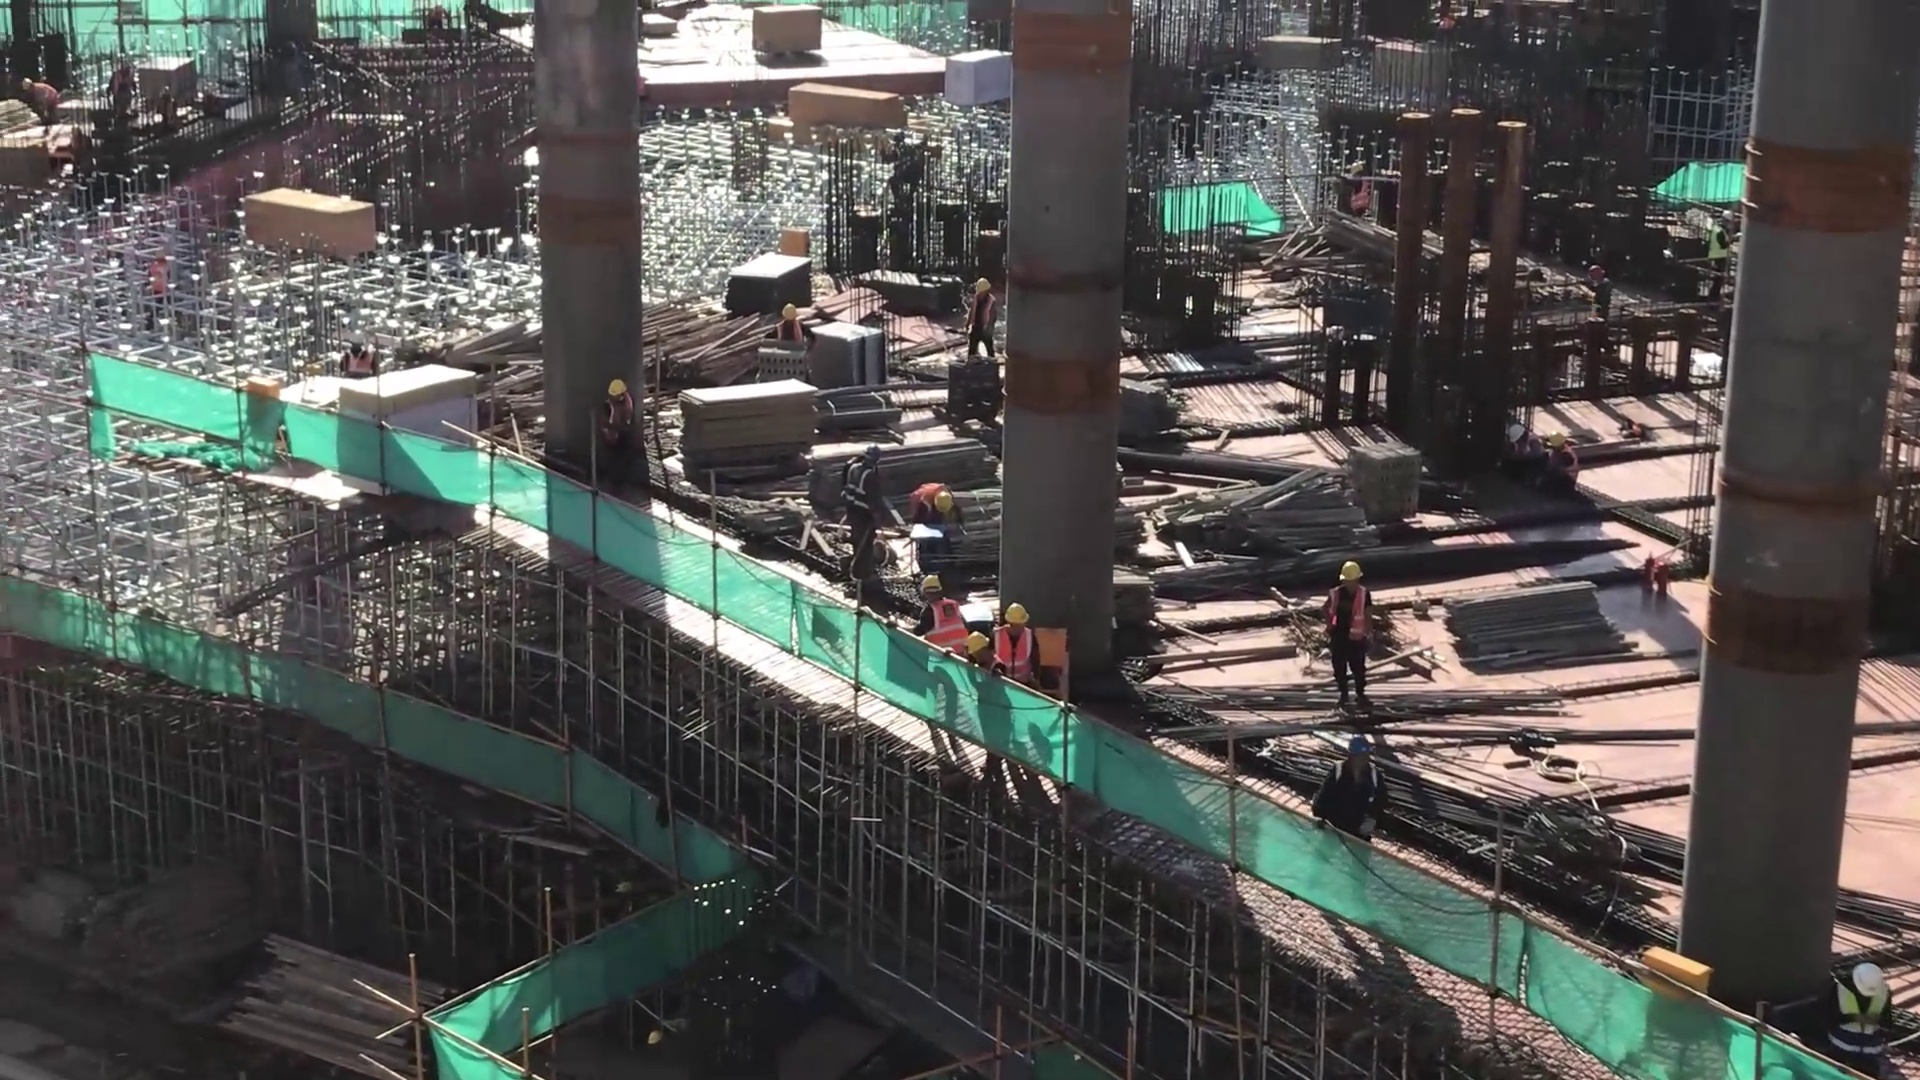ebox: (1619, 933, 1725, 1007), (774, 223, 813, 265)
helmet: (1848, 957, 1889, 1001), (1345, 732, 1382, 776), (1332, 560, 1380, 594), (917, 569, 950, 606), (962, 624, 992, 661), (930, 489, 962, 521), (1007, 599, 1036, 622), (855, 440, 886, 462), (1542, 424, 1567, 450), (605, 374, 634, 395), (1715, 201, 1735, 229), (1508, 423, 1531, 448), (771, 299, 799, 319), (14, 73, 34, 94), (971, 277, 993, 295), (346, 326, 366, 344)
person: (1311, 551, 1388, 731), (1299, 727, 1390, 849), (1829, 950, 1904, 1080), (837, 436, 892, 589), (907, 564, 969, 659), (987, 593, 1046, 690), (592, 364, 645, 447), (1697, 193, 1738, 294), (953, 270, 997, 356), (910, 473, 967, 533), (336, 322, 382, 382), (1542, 423, 1580, 494), (16, 73, 65, 127), (767, 297, 809, 355)
rebar: (1414, 763, 1659, 894)
vest: (1835, 993, 1886, 1063), (1318, 586, 1370, 648), (909, 606, 962, 654), (994, 626, 1032, 671), (844, 465, 877, 513), (601, 397, 640, 438), (342, 346, 380, 375), (965, 297, 993, 333), (1550, 450, 1576, 487), (1704, 227, 1728, 261), (35, 84, 59, 119), (776, 322, 806, 345)
wood: (1436, 568, 1638, 665), (643, 304, 766, 383)
